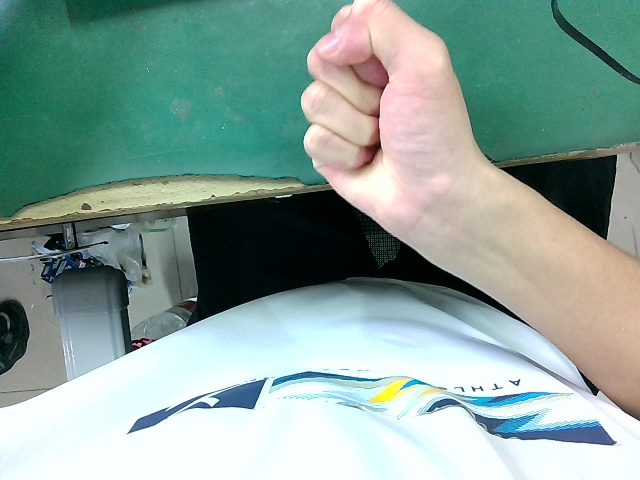stone: (288, 4, 503, 273)
